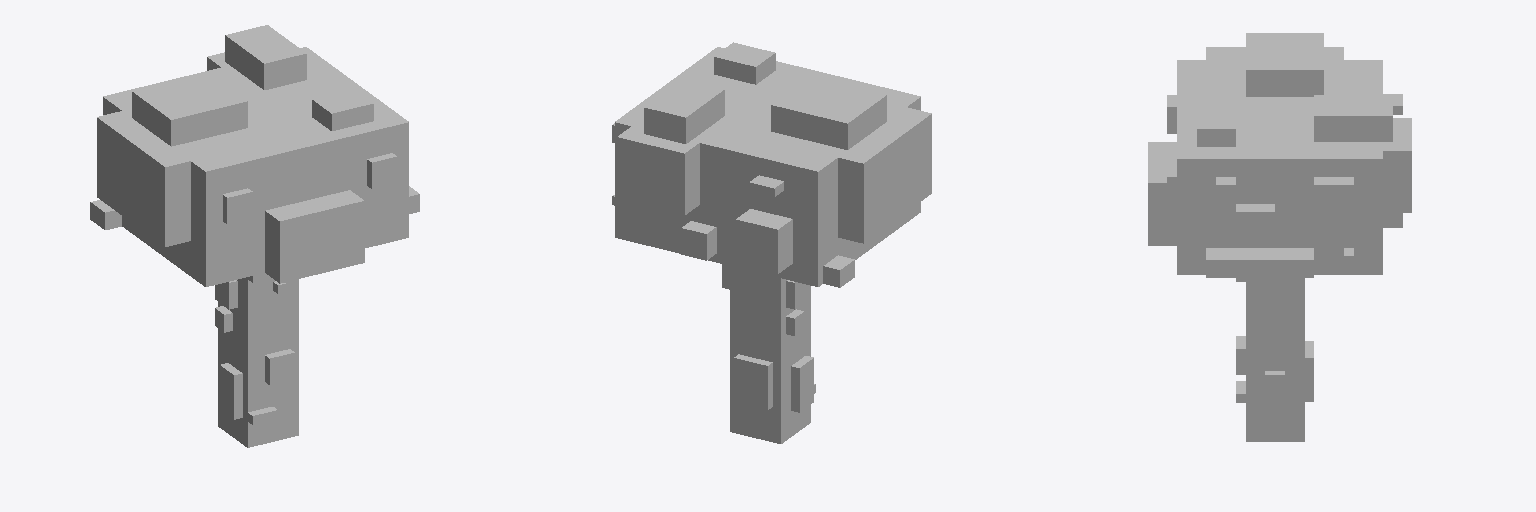
The model's file is tree.obj.
3 views of the same model, side by side, from view 1: azimuth 30°, elevation 25°; view 2: azimuth 150°, elevation 25°; view 3: azimuth 270°, elevation 25° (orthographic).
Parts seen in each view (by area): view 1: object 1; view 2: object 1; view 3: object 1.
Part boxes in pixels (x1,y1,x2,y2): object 1: (90, 25, 419, 447); object 1: (612, 42, 931, 443); object 1: (1148, 33, 1411, 441).
Bounding box in the file's own units: 3 × 3.9 × 2.7.